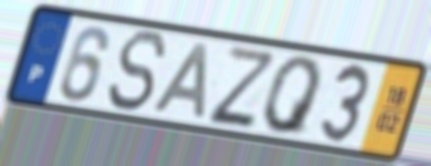3: (317, 61, 373, 145)
6: (58, 23, 110, 103)
A: (148, 40, 211, 122)
Q: (261, 55, 325, 139)
S: (105, 28, 170, 115)
Z: (205, 42, 276, 129)
